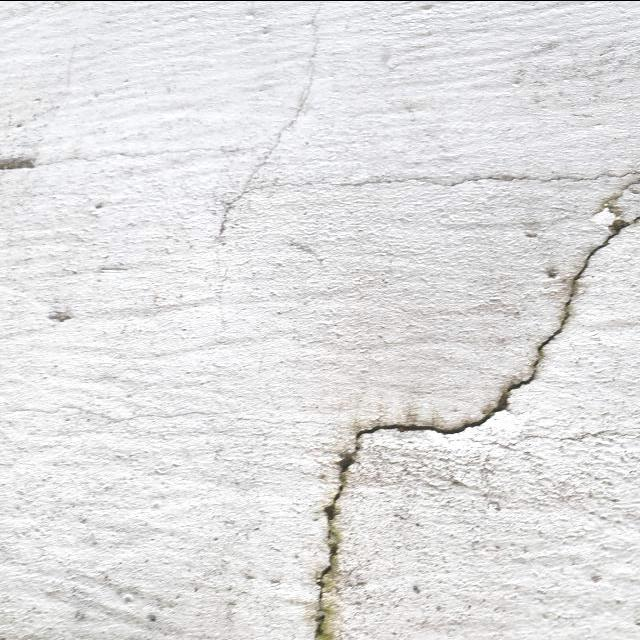SurfaceCrack: (4, 1, 640, 640)
